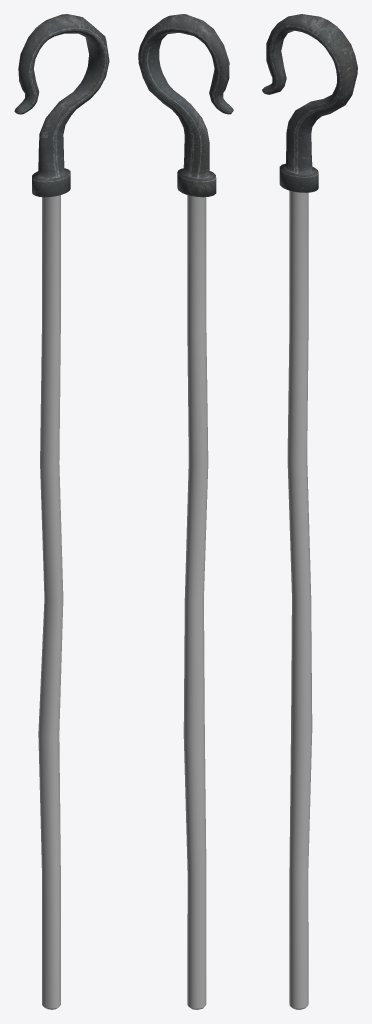
Rendered from SM_GaffPole-Hook.fbx.
3 renders of one model, left to right at view 1: azimuth 30°, elevation 25°; view 2: azimuth 150°, elevation 25°; view 3: azimuth 330°, elevation 25°, orthographic.
Visible parts, largest first — view 1: SM_GaffPole-Hook_LOD0; view 2: SM_GaffPole-Hook_LOD0; view 3: SM_GaffPole-Hook_LOD0.
Boxes of the visible parts, <box> form: SM_GaffPole-Hook_LOD0: <box>14,14,109,1009</box>; SM_GaffPole-Hook_LOD0: <box>138,14,233,1009</box>; SM_GaffPole-Hook_LOD0: <box>262,14,357,1009</box>.
Bounding box in the file's own units: 23.99 × 7.43 × 250.
2 materials, 1 textured.
